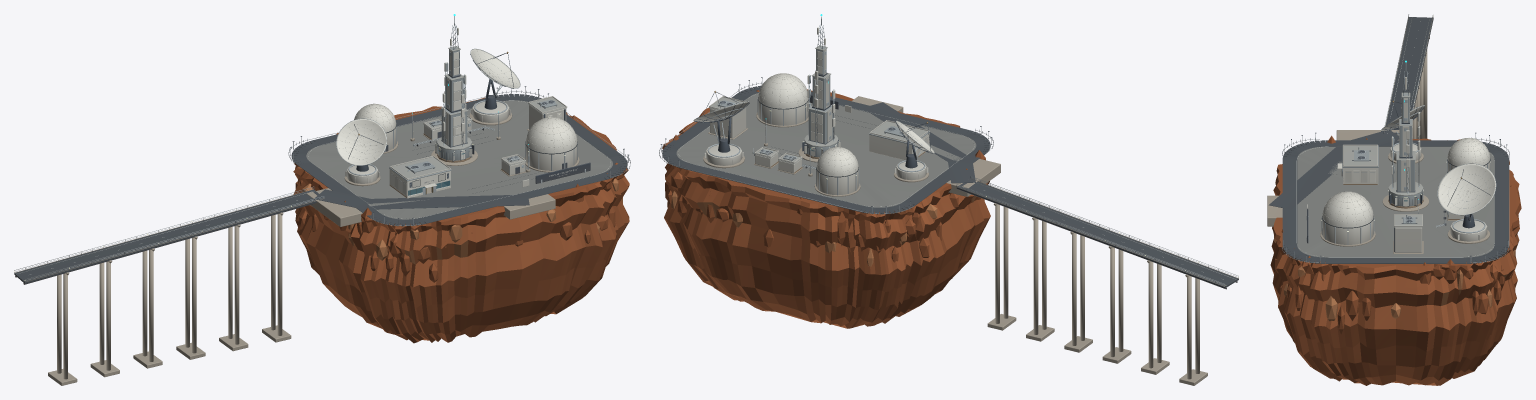
Rendered from communications-outpost-JZEkCyqe.glb.
3 renders of one model, left to right at view 1: azimuth 30°, elevation 25°; view 2: azimuth 150°, elevation 25°; view 3: azimuth 270°, elevation 25°, orthographic. The views are drawn at different scales.
Parts seen in each view (by area): view 1: Outpost / cliff, Outpost / concrete, Outpost / road, Outpost / paving, Outpost / ceramic, Outpost / ceramic-warm, Outpost / metal, Outpost / structure, Outpost / painted-alloy, Outpost / roof-alloy, Outpost / rock-highlight, Outpost / marking; view 2: Outpost / cliff, Outpost / concrete, Outpost / paving, Outpost / road, Outpost / ceramic-warm, Outpost / ceramic, Outpost / metal, Outpost / structure, Outpost / painted-alloy, Outpost / roof-alloy, Outpost / rock-highlight, Outpost / marking; view 3: Outpost / cliff, Outpost / paving, Outpost / road, Outpost / ceramic, Outpost / ceramic-warm, Outpost / concrete, Outpost / metal, Outpost / painted-alloy, Outpost / roof-alloy, Outpost / structure, Outpost / rock-highlight, Outpost / marking.
Boxes of the visible parts, bbox=[...] form: Outpost / cliff: bbox=[293, 97, 629, 343]; Outpost / concrete: bbox=[15, 112, 579, 385]; Outpost / road: bbox=[14, 94, 627, 283]; Outpost / paving: bbox=[306, 100, 612, 219]; Outpost / ceramic: bbox=[336, 28, 577, 198]; Outpost / ceramic-warm: bbox=[339, 50, 577, 194]; Outpost / metal: bbox=[14, 16, 630, 280]; Outpost / structure: bbox=[14, 26, 630, 284]; Outpost / painted-alloy: bbox=[389, 46, 557, 181]; Outpost / roof-alloy: bbox=[392, 46, 566, 179]; Outpost / rock-highlight: bbox=[302, 178, 622, 264]; Outpost / marking: bbox=[19, 100, 610, 281]; Outpost / cliff: bbox=[662, 89, 990, 328]; Outpost / concrete: bbox=[703, 96, 1238, 385]; Outpost / paving: bbox=[676, 93, 976, 207]; Outpost / road: bbox=[662, 85, 1238, 288]; Outpost / ceramic-warm: bbox=[706, 49, 929, 194]; Outpost / ceramic: bbox=[693, 27, 934, 179]; Outpost / metal: bbox=[659, 16, 1238, 285]; Outpost / structure: bbox=[659, 25, 1238, 289]; Outpost / painted-alloy: bbox=[717, 46, 929, 160]; Outpost / roof-alloy: bbox=[709, 45, 926, 163]; Outpost / rock-highlight: bbox=[671, 191, 976, 266]; Outpost / marking: bbox=[678, 93, 1235, 285]; Outpost / cliff: bbox=[1270, 135, 1521, 385]; Outpost / paving: bbox=[1297, 146, 1494, 257]; Outpost / road: bbox=[1269, 17, 1508, 263]; Outpost / ceramic: bbox=[1322, 77, 1495, 240]; Outpost / ceramic-warm: bbox=[1307, 98, 1495, 252]; Outpost / concrete: bbox=[1267, 17, 1489, 253]; Outpost / metal: bbox=[1282, 14, 1509, 263]; Outpost / painted-alloy: bbox=[1342, 93, 1448, 223]; Outpost / roof-alloy: bbox=[1343, 92, 1423, 227]; Outpost / structure: bbox=[1282, 19, 1509, 263]; Outpost / rock-highlight: bbox=[1274, 236, 1515, 321]; Outpost / marking: bbox=[1296, 17, 1494, 257].
Size of the model in its own units: 259 by 125 by 101.
